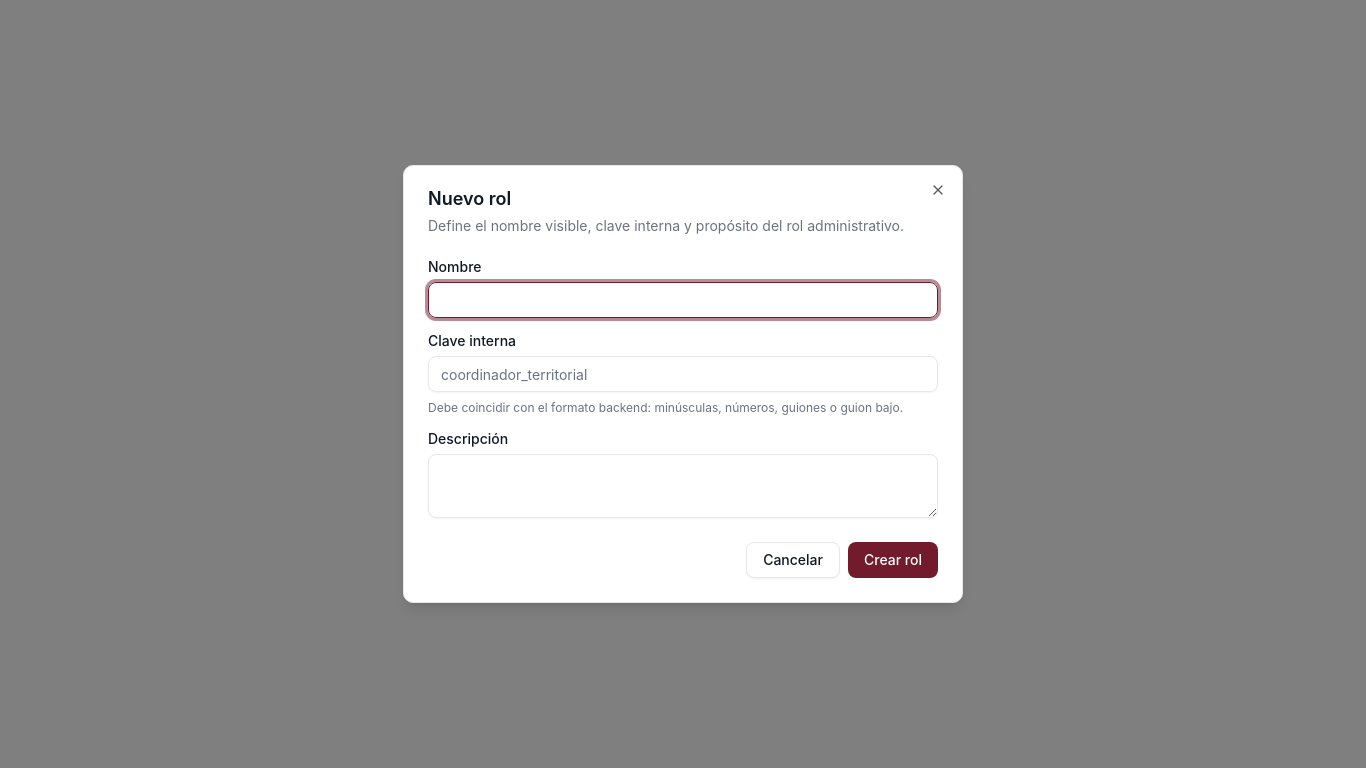
Scenario: RoleForm › muestra errores de validación y evita enviar payload inválido
Click the button "Crear rol": click(893, 560) [848,542,938,578]
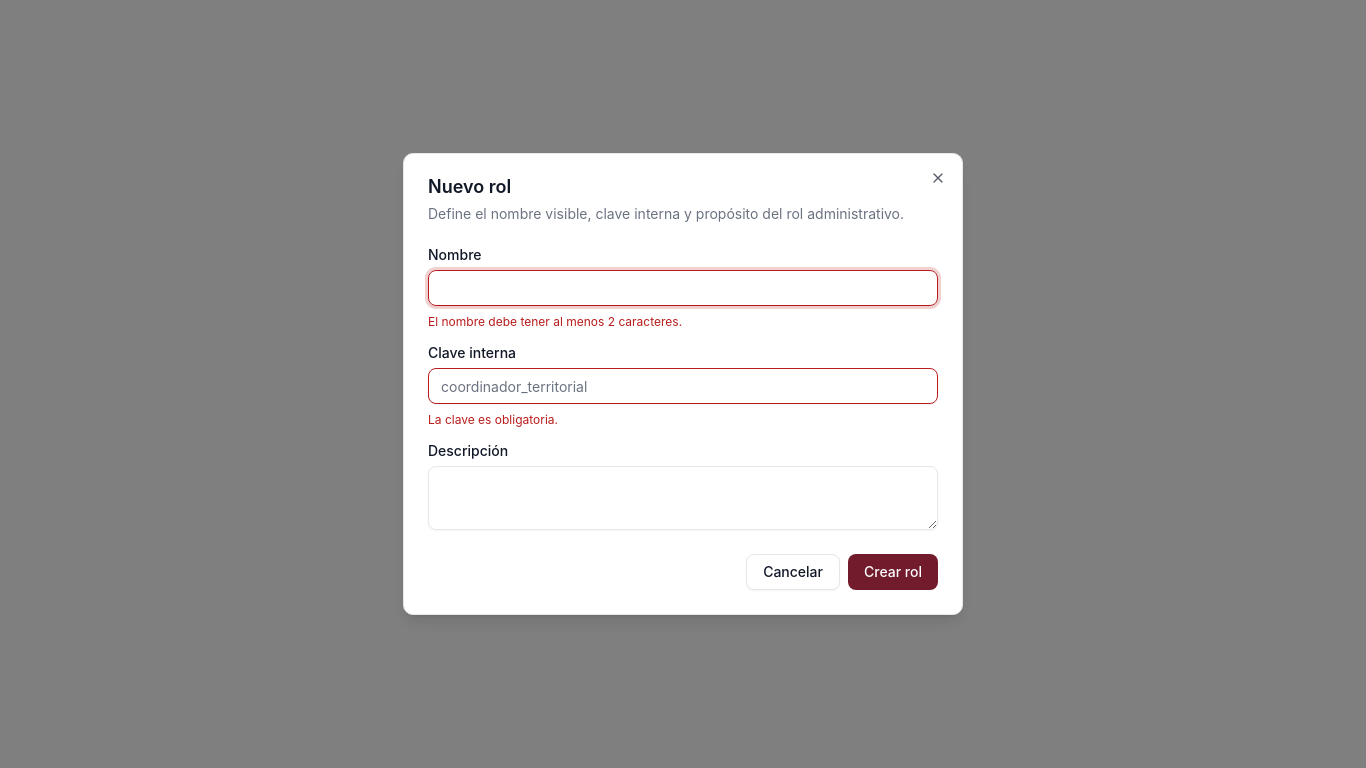
expect the text "El nombre debe tener al menos 2 caracteres." is shown: met, box [428,314,682,329]
